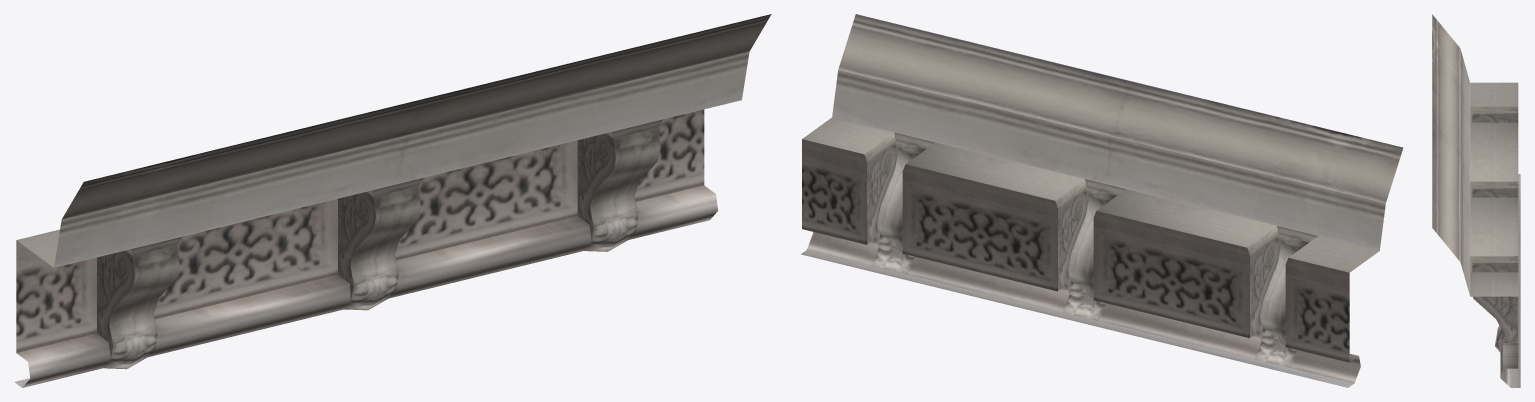
File: WallRoofline1C.fbx
The picture shows the model from 3 angles, left to right: view 1: azimuth 30°, elevation 25°; view 2: azimuth 150°, elevation 25°; view 3: azimuth 270°, elevation 25°; orthographic projection. The views are drawn at different scales.
Visible parts, largest first — view 1: WallRoofline1C; view 2: WallRoofline1C; view 3: WallRoofline1C.
Part boxes in pixels (x1,y1,x2,y2): WallRoofline1C: (15,14,771,387); WallRoofline1C: (801,14,1403,387); WallRoofline1C: (1432,14,1520,387).
Bounding box in the file's own units: 200 × 71.18 × 35.
